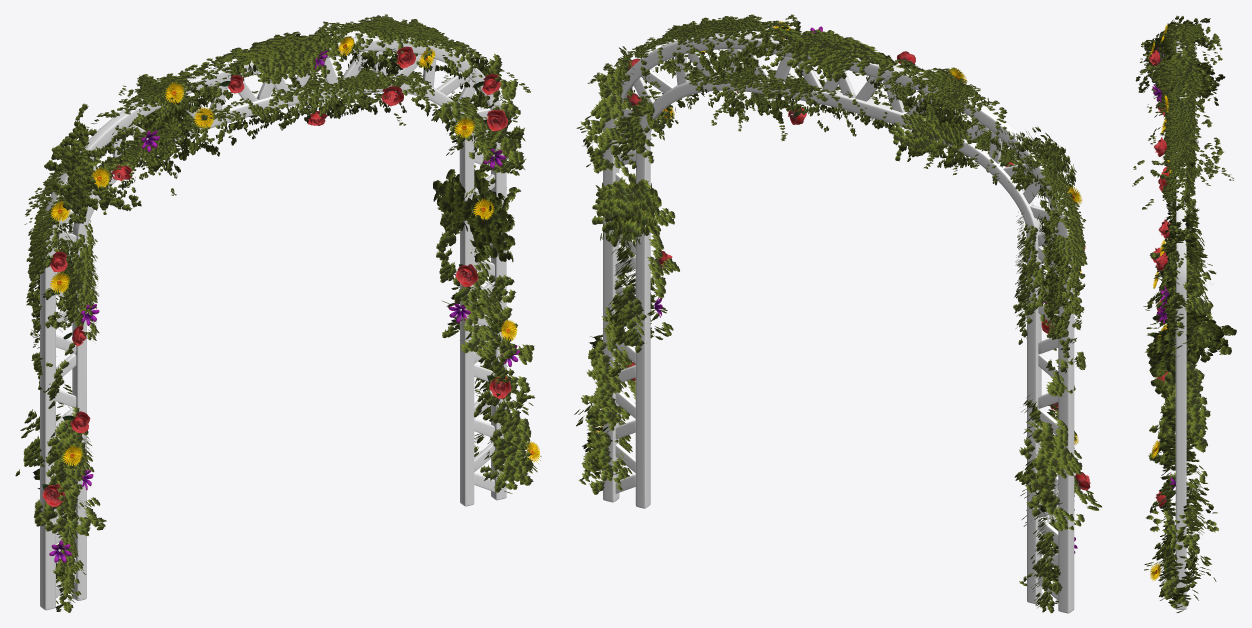
The model's file is flower_arch.glb.
3 renders of one model, left to right at view 1: azimuth 30°, elevation 25°; view 2: azimuth 150°, elevation 25°; view 3: azimuth 270°, elevation 25°, orthographic. The views are drawn at different scales.
Bounding box in the file's own units: 7.37 × 7.23 × 1.52.
Materials: 6 (5 with a texture image).
